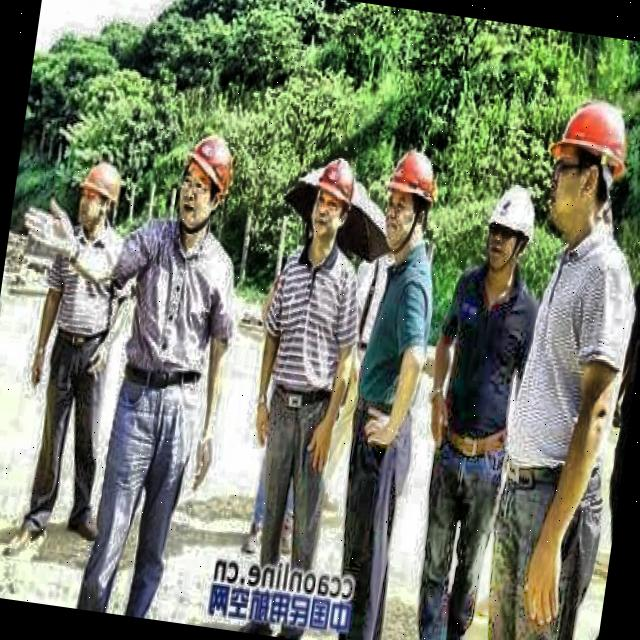helmet: (542, 90, 638, 240), (166, 126, 244, 242), (376, 142, 445, 254), (476, 177, 544, 286), (300, 148, 361, 256), (68, 155, 126, 240)
